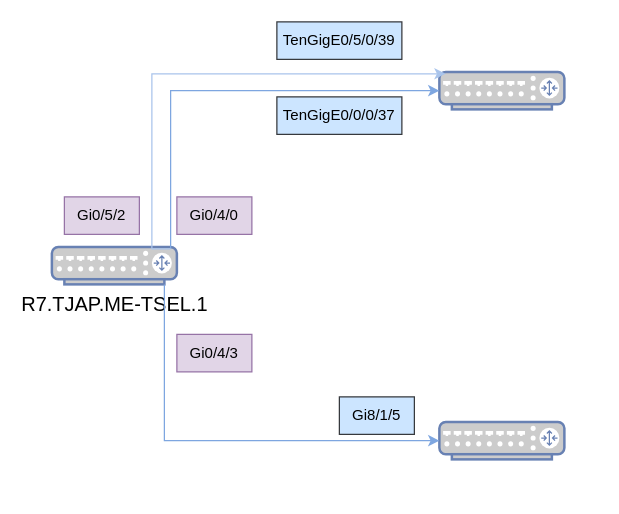
The diagram is 619 pixels wide and 514 high, and some of its shapes have lost their labels. The shapes that lost their labels are listed below. From the top down, each one's box as (x1, y1, x2, y2) in pixels, then its label:
(438, 70, 565, 110): ran-agg-jypura.1-new
(438, 420, 565, 460): ME-D7-ABE
